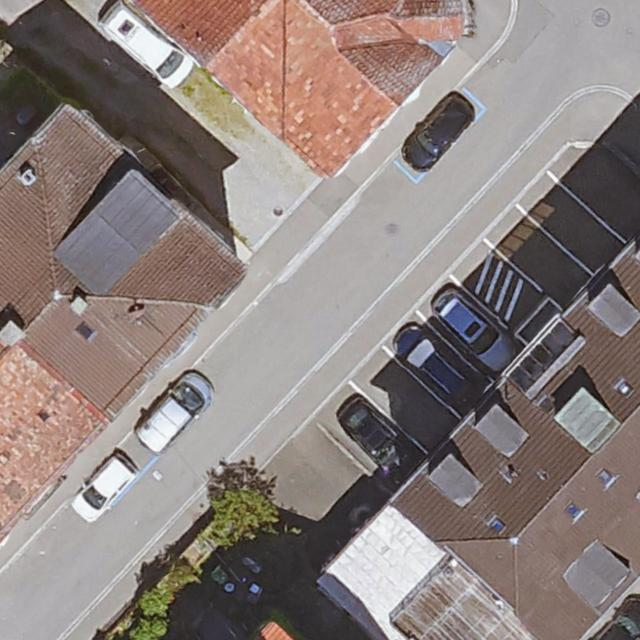tree: (207, 487, 278, 548), (257, 525, 316, 593)
